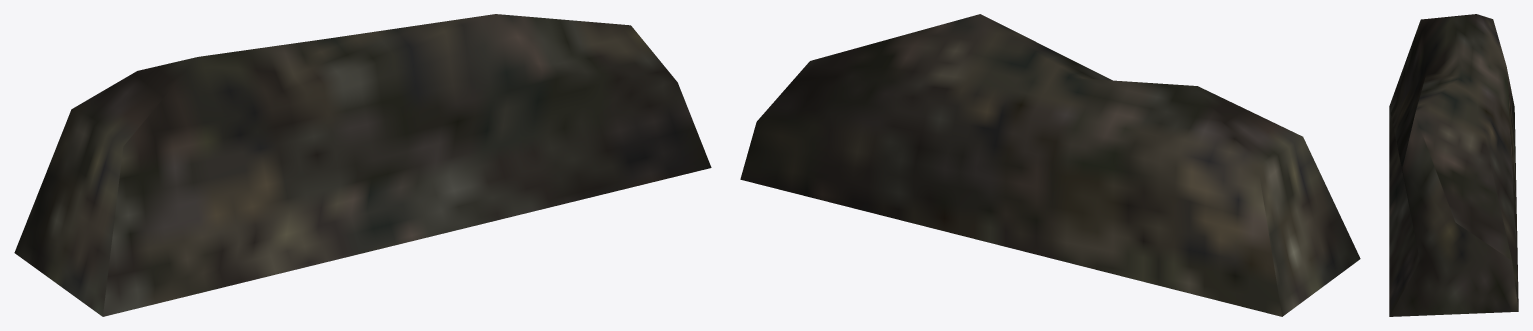
Rendered from b_general_obj_16_01.glb.
3 renders of one model, left to right at view 1: azimuth 30°, elevation 25°; view 2: azimuth 150°, elevation 25°; view 3: azimuth 270°, elevation 25°, orthographic. The views are drawn at different scales.
Visible parts, largest first — view 1: Object03; view 2: Object03; view 3: Object03.
Part boxes in pixels (bbox=[...]): Object03: bbox=[14, 14, 711, 316]; Object03: bbox=[740, 14, 1360, 316]; Object03: bbox=[1389, 14, 1518, 316].
Size of the model in its own units: 1.81 by 0.5534 by 0.4715.
1 material, 1 textured.
